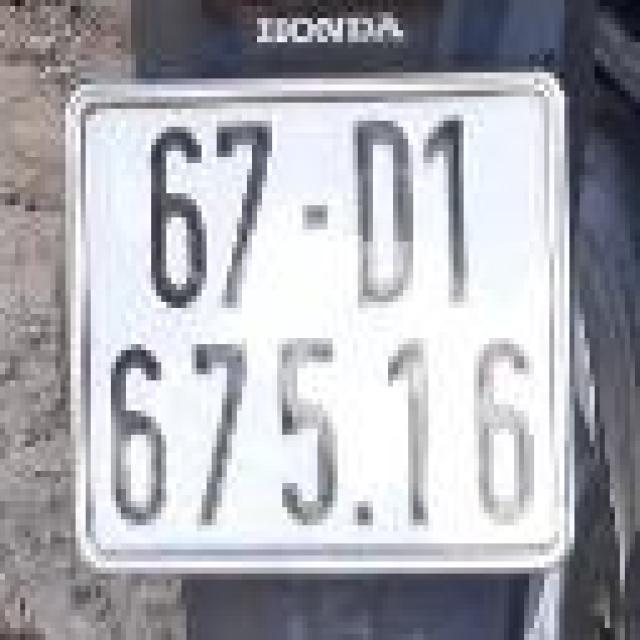1: (380, 320, 451, 543), (421, 115, 481, 314)
5: (267, 323, 348, 534)
6: (126, 112, 212, 317), (101, 338, 176, 531), (464, 338, 539, 531)
7: (202, 109, 277, 314), (181, 329, 257, 528)
D: (330, 91, 421, 320)
